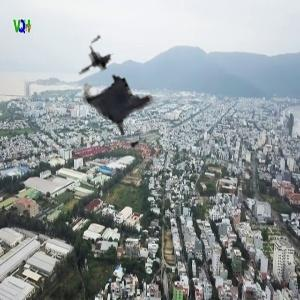drone: (59, 27, 207, 175)
